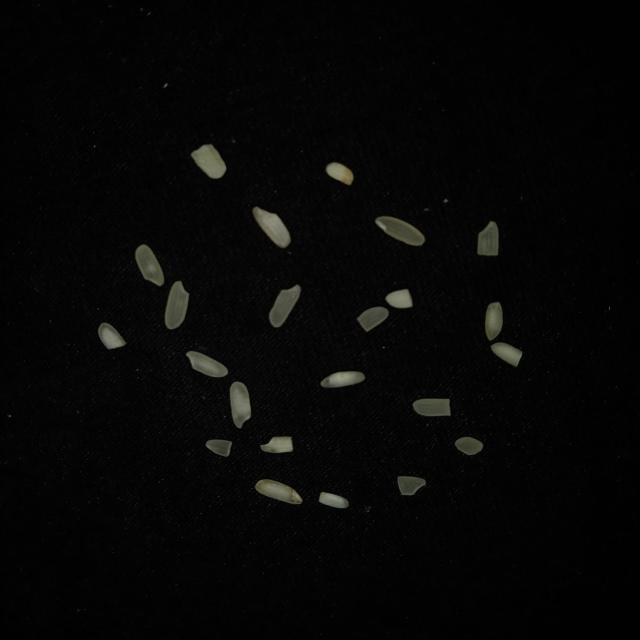Broken: (191, 144, 227, 179), (357, 307, 389, 332), (491, 342, 522, 367), (99, 322, 126, 350), (478, 221, 498, 256), (413, 399, 451, 416), (326, 162, 354, 185), (260, 436, 293, 453), (385, 288, 413, 308), (398, 476, 426, 495), (455, 437, 483, 455), (319, 492, 349, 508), (206, 439, 232, 456)
Full: (253, 207, 291, 248), (375, 216, 425, 246), (269, 284, 301, 328), (165, 281, 189, 329), (136, 245, 164, 286), (255, 480, 302, 504), (186, 351, 228, 377), (230, 382, 251, 428), (321, 371, 365, 388), (485, 302, 503, 341)
